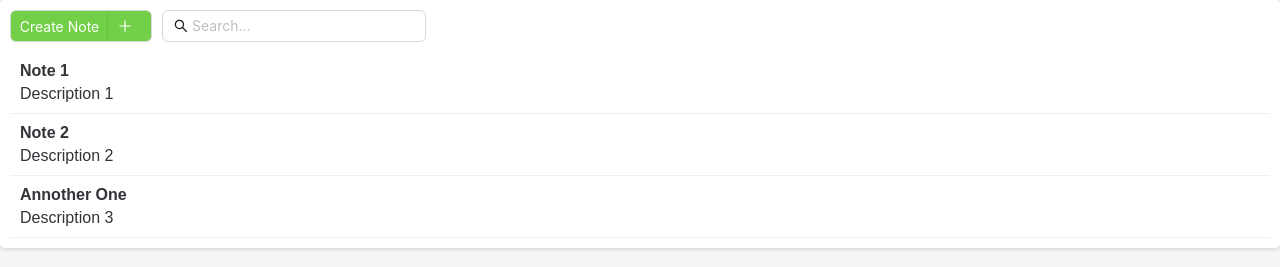
Test: NoteList › filters notes based on search input
In the field with placeholder "Search...": [303, 26] box x1=192 y1=15 x2=414 y2=37, type "Note"
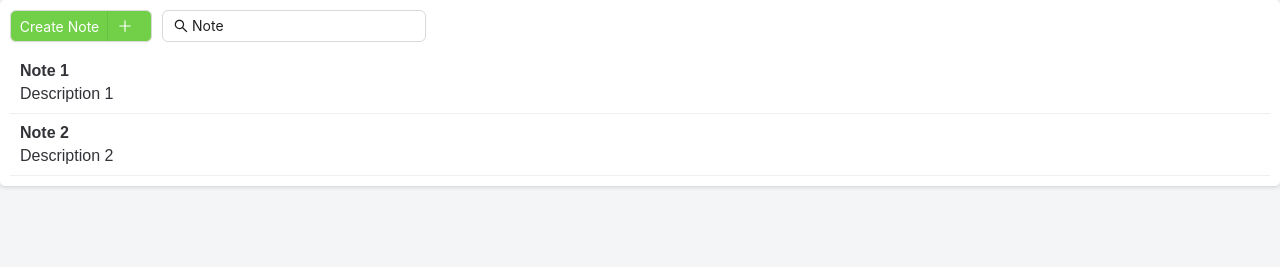
Expected: the heading "Note 1" is shown, x1=20 y1=62 x2=69 y2=79
Expected: the heading "Annother One" is gone
